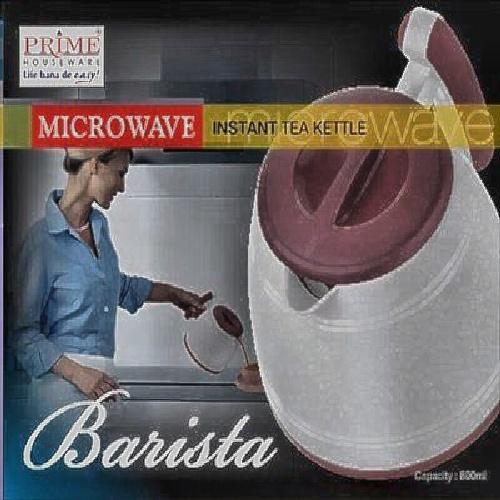kettle: (253, 99, 494, 473)
